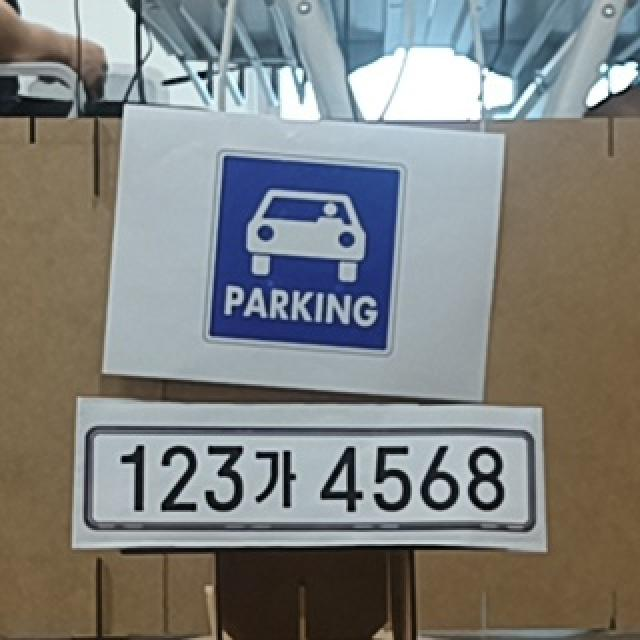normal: (84, 428, 534, 529)
